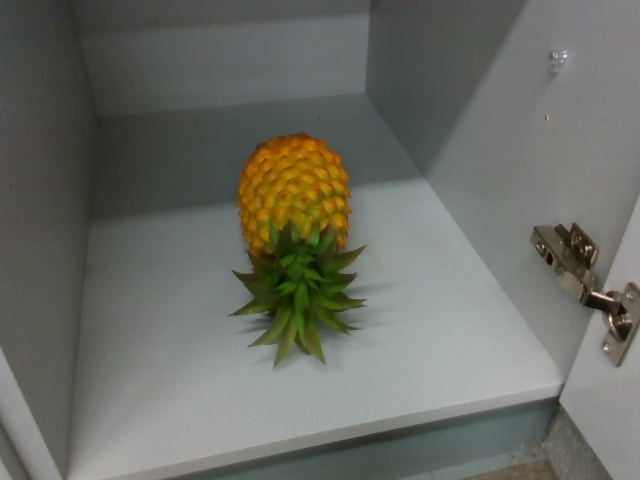pineapple: (230, 131, 377, 371)
